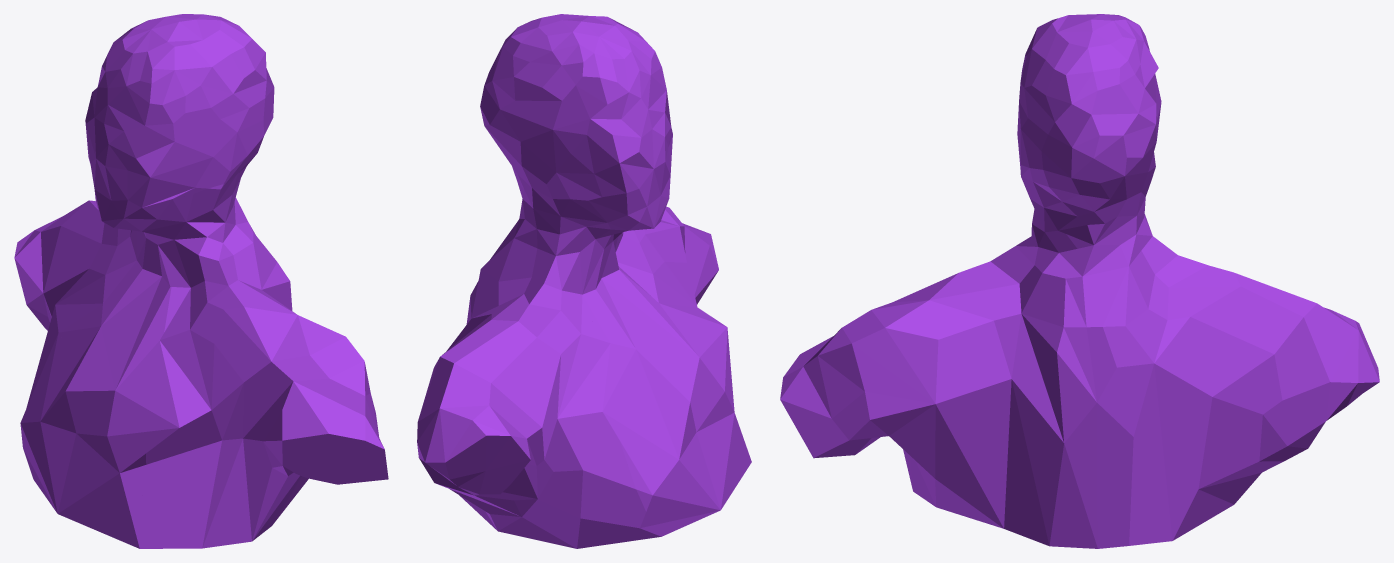
File: Statue.003_chunks.fbx
3 views of the same model, side by side, from view 1: azimuth 30°, elevation 25°; view 2: azimuth 150°, elevation 25°; view 3: azimuth 270°, elevation 25° (orthographic). The views are drawn at different scales.
Visible parts, largest first — view 1: Statue.003_2, Statue.003_0, Statue.003_3, Statue.003_1; view 2: Statue.003_1, Statue.003_0, Statue.003_3, Statue.003_2; view 3: Statue.003_1, Statue.003_2, Statue.003_3.
Boxes of the visible parts, x1,y1,x2,y2 form: Statue.003_2: [137, 184, 388, 548]; Statue.003_0: [20, 138, 173, 547]; Statue.003_3: [85, 14, 274, 210]; Statue.003_1: [14, 200, 292, 481]; Statue.003_1: [417, 213, 665, 548]; Statue.003_0: [564, 131, 750, 534]; Statue.003_3: [480, 14, 672, 247]; Statue.003_2: [519, 206, 751, 462]; Statue.003_1: [997, 224, 1379, 548]; Statue.003_2: [780, 173, 1087, 526]; Statue.003_3: [1017, 14, 1161, 264].
Bounding box in the file's own units: 183 × 342 × 389.
